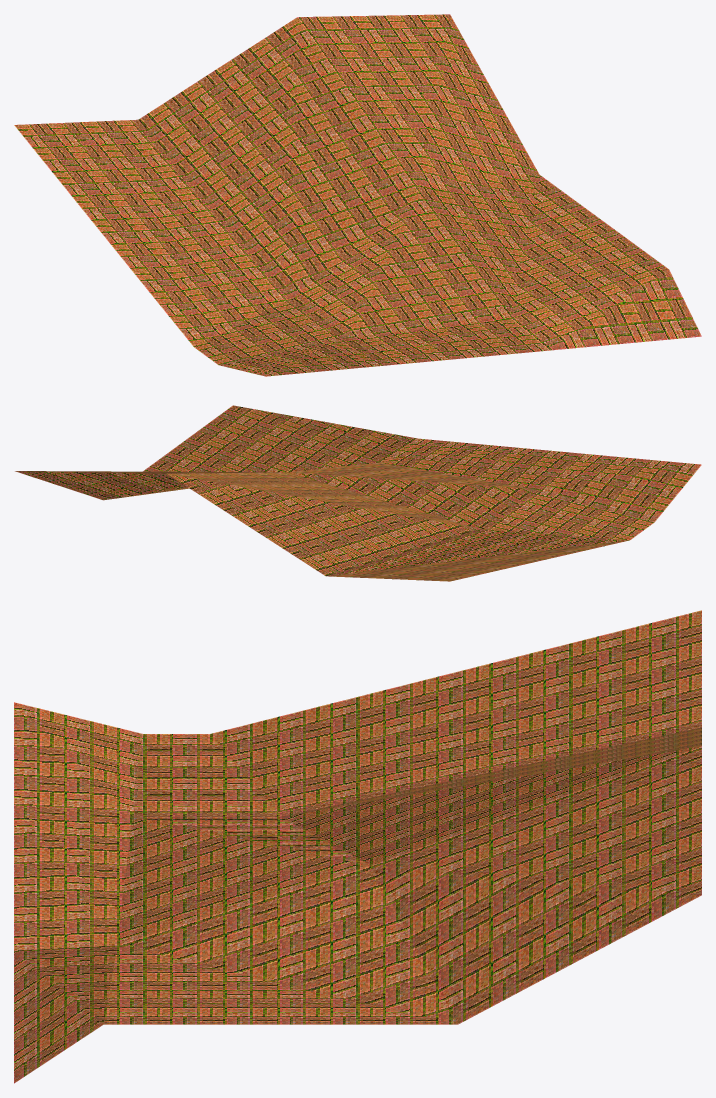
3 views of the same model, one above another, from view 1: azimuth 30°, elevation 25°; view 2: azimuth 150°, elevation 25°; view 3: azimuth 270°, elevation 25° (orthographic). The views are drawn at different scales.
Visible parts, largest first — view 1: Plane; view 2: Plane; view 3: Plane.
Part boxes in pixels (<box>): Plane: <box>14,14,701,376</box>; Plane: <box>15,405,701,581</box>; Plane: <box>14,610,701,1083</box>.
Size of the model in its own units: 20 by 7.56 by 20.
1 material, 1 textured.
